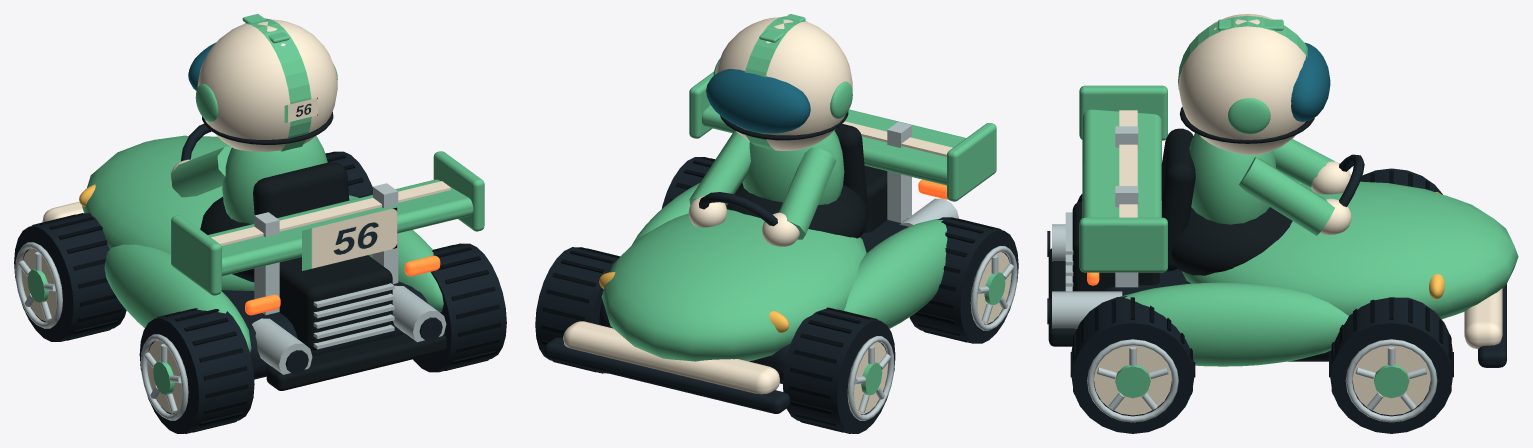
3 views of the same model, side by side, from view 1: azimuth 30°, elevation 25°; view 2: azimuth 150°, elevation 25°; view 3: azimuth 270°, elevation 25° (orthographic). The views are drawn at different scales.
Visible parts, largest first — view 1: Painted racing shell, rubber, Carbon seats and engine recesses, ivory, metal, Tire grooves, Driver racing number, Rear amber lenses; view 2: Painted racing shell, rubber, ivory, Carbon seats and engine recesses, metal, glass, Tire grooves, gold; view 3: Painted racing shell, ivory, rubber, Carbon seats and engine recesses, metal, Tire grooves, glass.
Part boxes in pixels (bbox=[...]): Painted racing shell: bbox=[27, 14, 484, 394]; rubber: bbox=[14, 124, 506, 433]; Carbon seats and engine recesses: bbox=[200, 112, 446, 390]; ivory: bbox=[21, 19, 450, 413]; metal: bbox=[15, 183, 446, 420]; Tire grooves: bbox=[32, 151, 500, 433]; Driver racing number: bbox=[284, 97, 397, 270]; Rear amber lenses: bbox=[245, 255, 440, 315]; Painted racing shell: bbox=[601, 14, 1005, 395]; rubber: bbox=[535, 157, 1018, 433]; ivory: bbox=[563, 17, 1011, 414]; Carbon seats and engine recesses: bbox=[720, 111, 907, 238]; metal: bbox=[847, 122, 1017, 420]; glass: bbox=[706, 69, 810, 133]; Tire grooves: bbox=[541, 157, 1001, 433]; gold: bbox=[599, 272, 789, 332]; Painted racing shell: bbox=[1079, 15, 1518, 398]; ivory: bbox=[1094, 14, 1502, 415]; rubber: bbox=[1047, 154, 1506, 433]; Carbon seats and engine recesses: bbox=[1048, 107, 1314, 346]; metal: bbox=[1052, 126, 1437, 422]; Tire grooves: bbox=[1070, 170, 1453, 394]; glass: bbox=[1291, 42, 1330, 121].
Bounding box in the file's own units: 2.51 × 2.43 × 3.08.
Materials: 10 (1 with a texture image).
